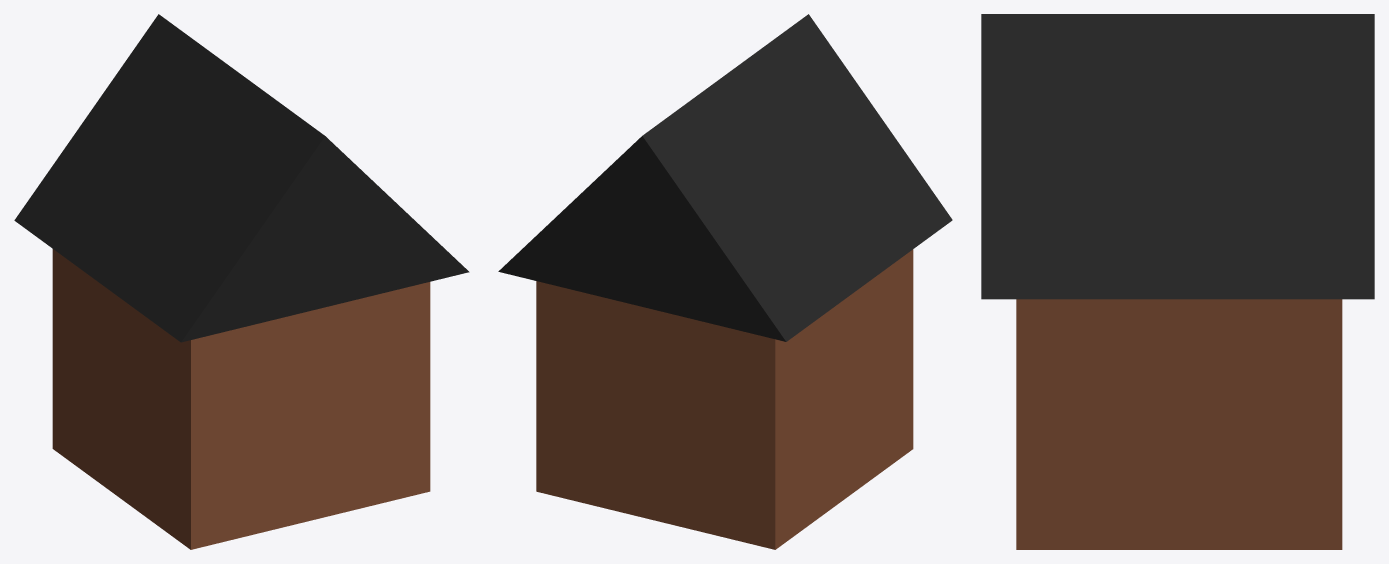
File: house.glb
The picture shows the model from 3 angles, left to right: view 1: azimuth 30°, elevation 25°; view 2: azimuth 150°, elevation 25°; view 3: azimuth 270°, elevation 25°; orthographic projection. The views are drawn at different scales.
Parts seen in each view (by area): view 1: treehouse; view 2: treehouse; view 3: treehouse.
Part boxes in pixels (bbox=[...]): treehouse: bbox=[14, 14, 469, 549]; treehouse: bbox=[498, 14, 952, 549]; treehouse: bbox=[981, 14, 1374, 549].
Bounding box in the file's own units: 458 × 600 × 458.
